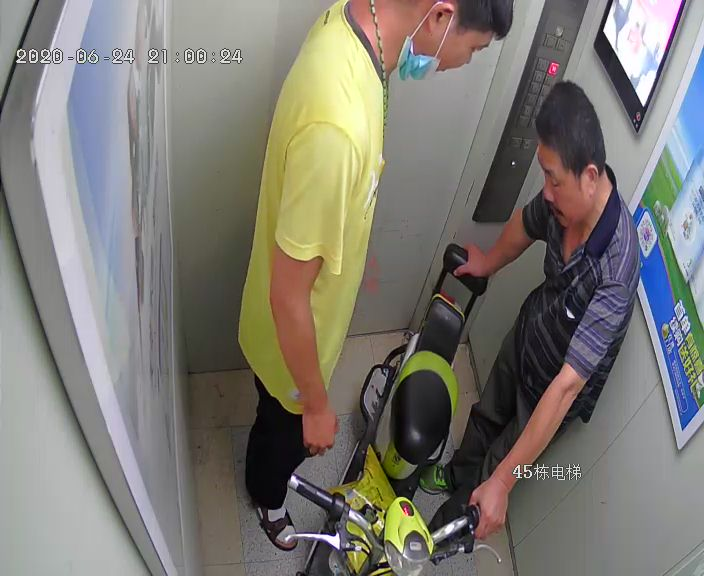Electric-bicycle: (296, 241, 494, 576)
